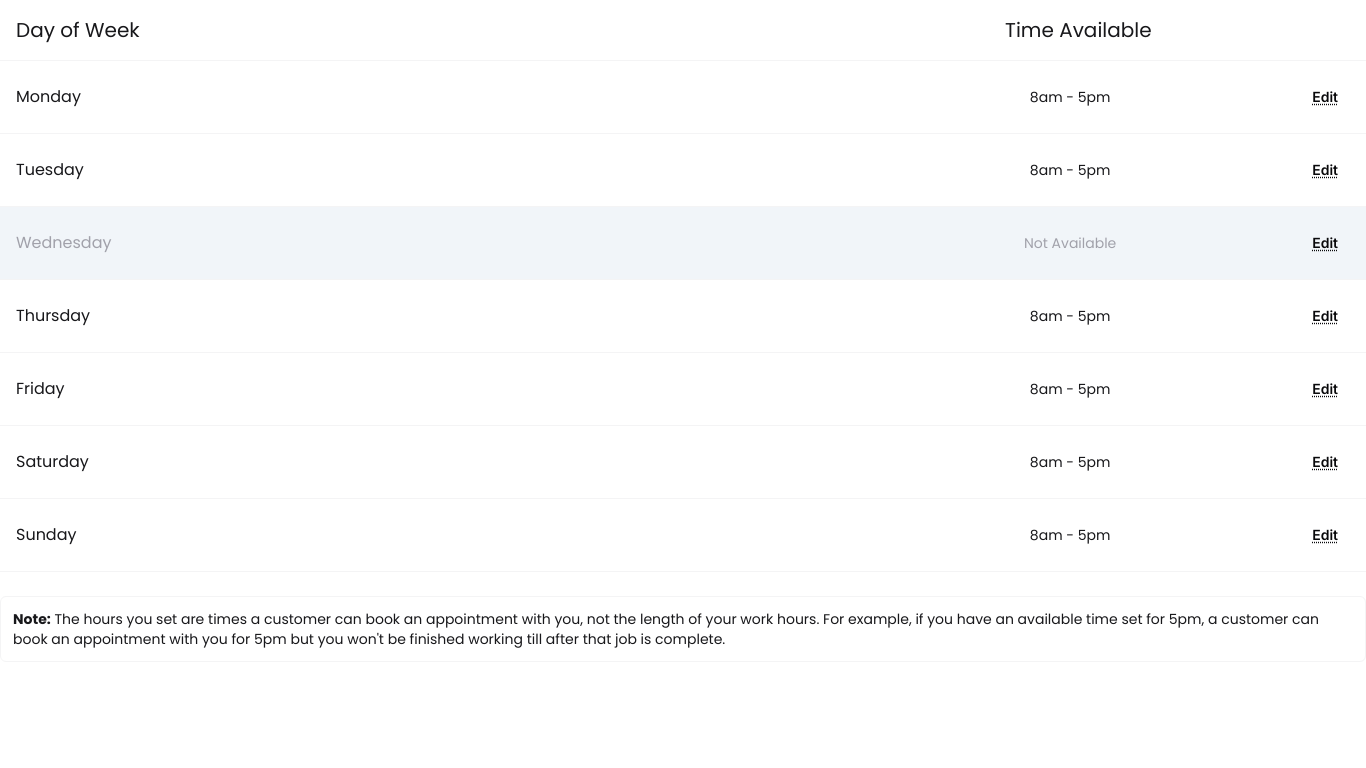
it: CalendarWeeklyAvailability › Edit Functionality › shows block checkbox for unblocked days in modal
Expected: the text "Monday" is shown, 16,85 -> 81,108
Click the button "Edit" in the row of "Monday".
click(1325, 97)  # box 1300,77 -> 1350,117
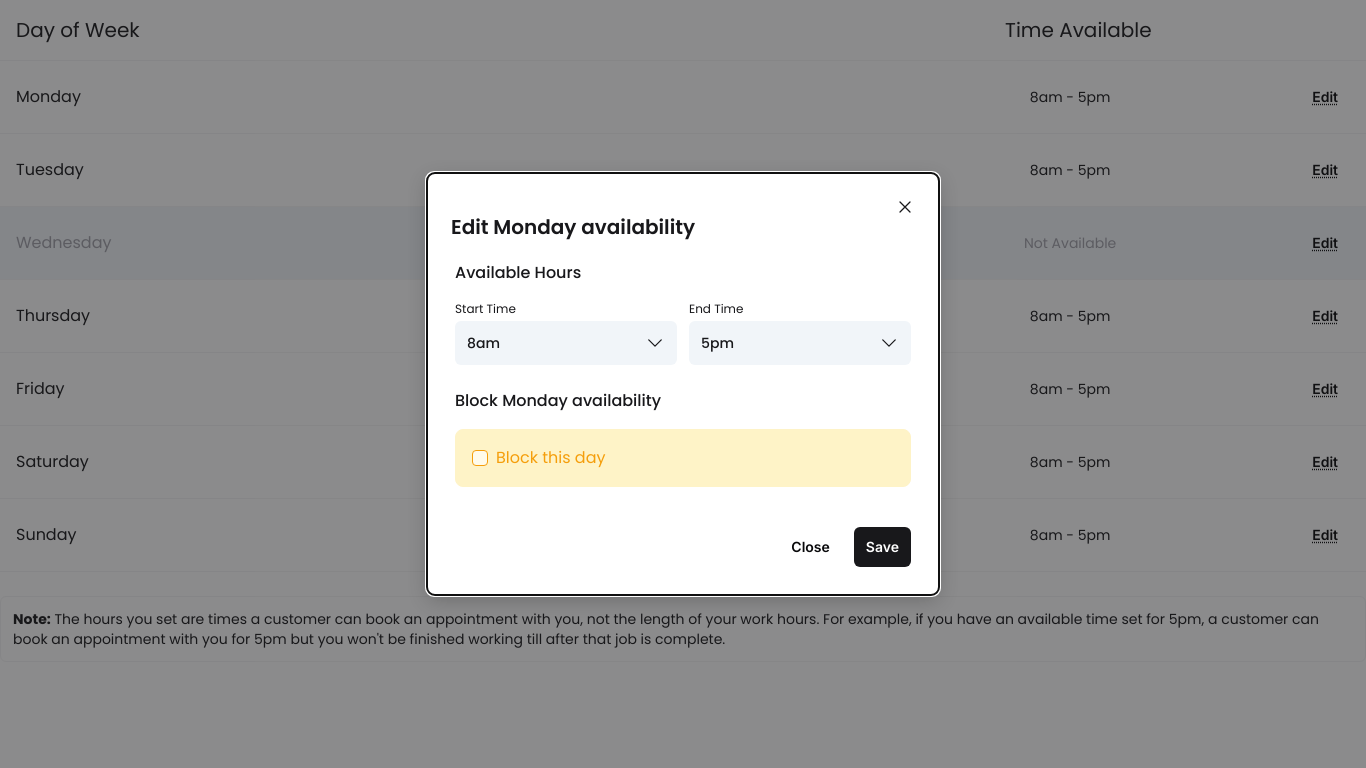
Result: the checkbox named "Block Monday" is not checked at 472,450 -> 488,466
